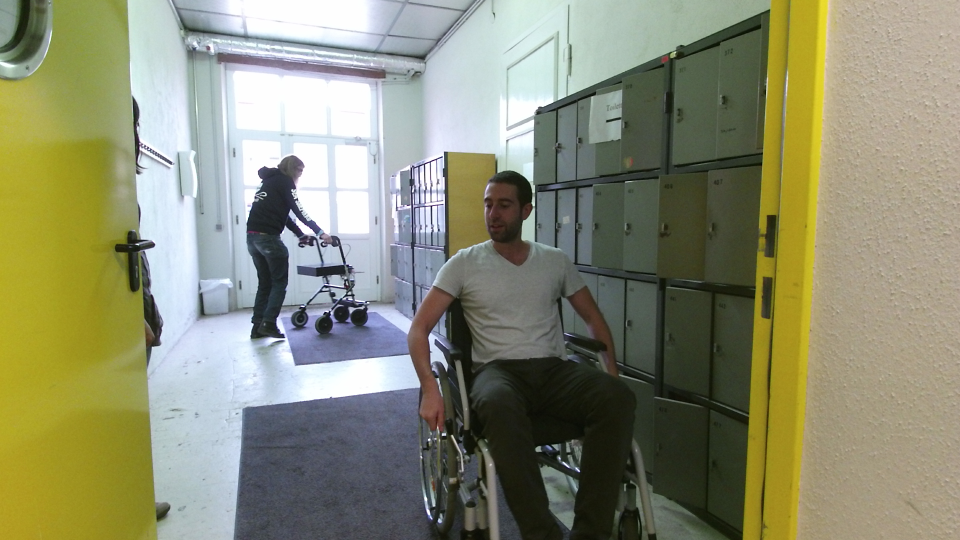wheelchair: (398, 165, 653, 540)
